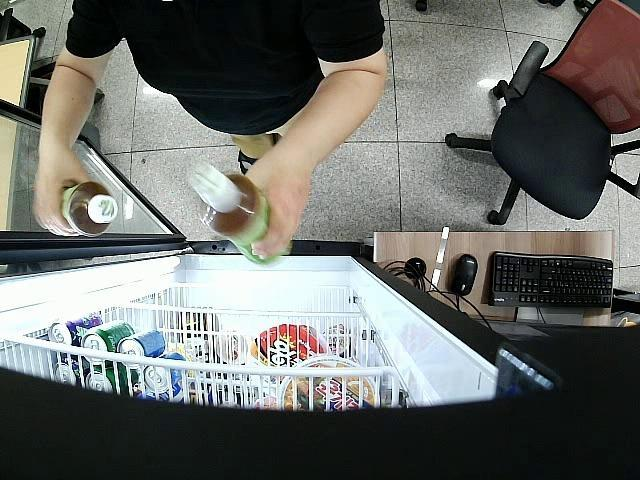19_17cha: (187, 163, 293, 265), (58, 178, 119, 238)
